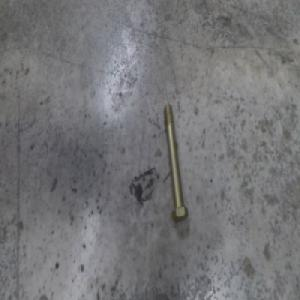Bolt: (163, 105, 188, 221)
